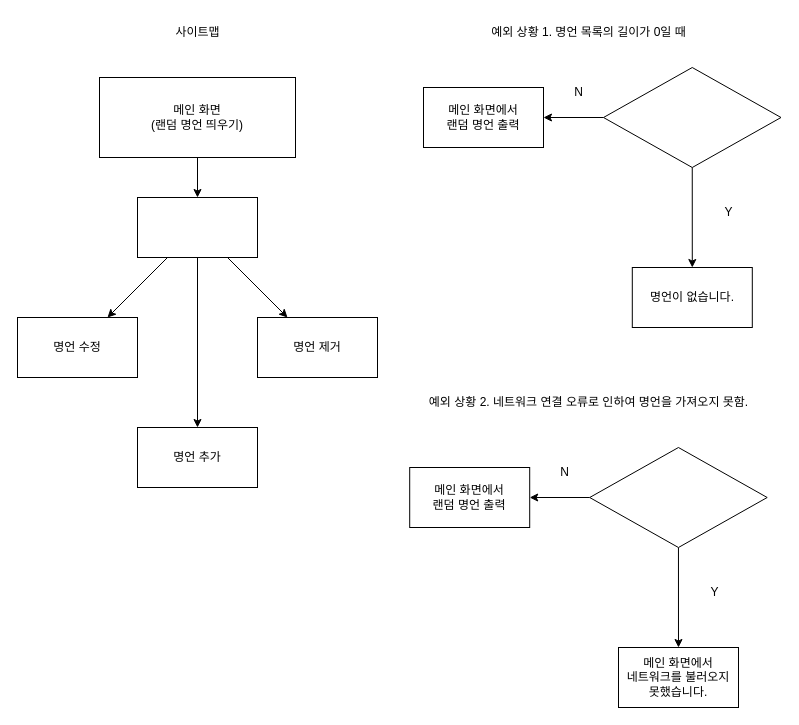
Some shapes in this 799 by 725 pixel diagram are drawn without their labels. Each missing label, with the centre of its shape:
네트워크 오류로 명언을 못가져옴: point (678, 497)
명언 목록: point (197, 227)
명언 목록의 길이가 0일때: point (691, 117)
